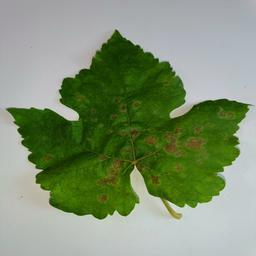Powdery-Mildew: (160, 128, 210, 159), (97, 157, 124, 208), (124, 124, 159, 144), (120, 98, 145, 119), (48, 179, 65, 196), (214, 107, 231, 123), (201, 178, 218, 194), (147, 173, 163, 189)
